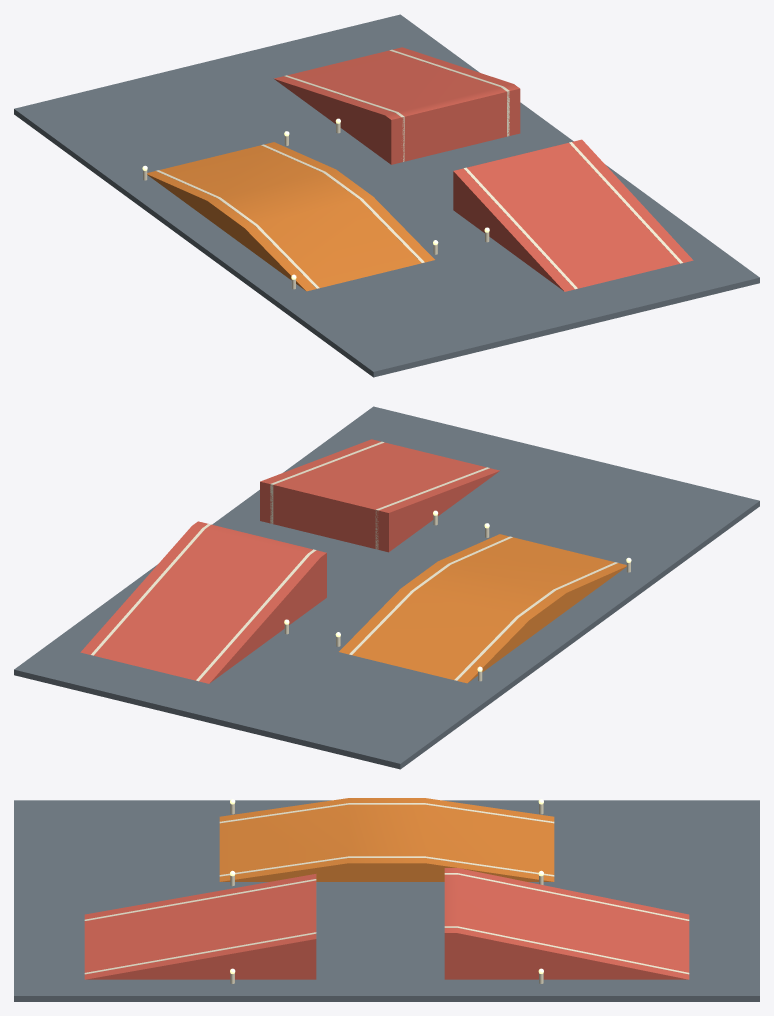
File: driving-jumps.glb
3 renders of one model, top to bottom at view 1: azimuth 30°, elevation 25°; view 2: azimuth 150°, elevation 25°; view 3: azimuth 270°, elevation 25°, orthographic. The views are drawn at different scales.
Parts seen in each view (by area): view 1: SharedBase, Tabletop, Landing, Takeoff, RampSide (×4), RampEnd; view 2: SharedBase, Takeoff, Tabletop, Landing, RampSide (×4), RampEnd; view 3: SharedBase, Tabletop, Takeoff, Landing, RampSide (×6), Stripe (×2), TakeoffStripe (×2), LandingStripe (×2).
Part boxes in pixels (x1,y1,x2,y2): SharedBase: (14, 14, 759, 377); Tabletop: (147, 142, 434, 291); Landing: (453, 139, 693, 291); Takeoff: (274, 47, 519, 119); RampSide (×4): (147, 79, 563, 290); RampEnd: (391, 88, 520, 164); SharedBase: (14, 406, 759, 769); Takeoff: (80, 521, 326, 683); Tabletop: (339, 534, 626, 683); Landing: (260, 439, 499, 512); RampSide (×4): (210, 471, 626, 682); RampEnd: (260, 481, 388, 552); SharedBase: (14, 800, 759, 1001); Tabletop: (219, 798, 554, 881); Takeoff: (445, 868, 689, 979); Landing: (84, 874, 315, 979); RampSide (×6): (86, 863, 687, 979); Stripe (×2): (219, 803, 554, 876); TakeoffStripe (×2): (445, 873, 689, 974); LandingStripe (×2): (84, 879, 315, 974).
Size of the model in its own units: 36 by 4.51 by 58.
